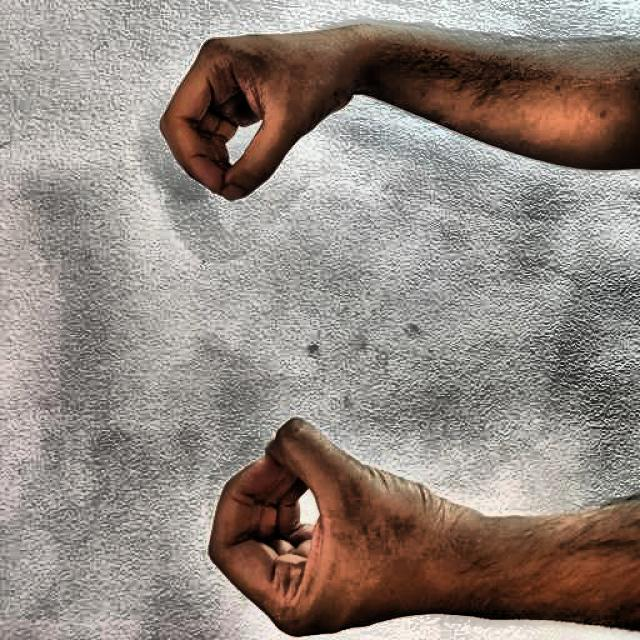Bisharga: (130, 12, 448, 636)
